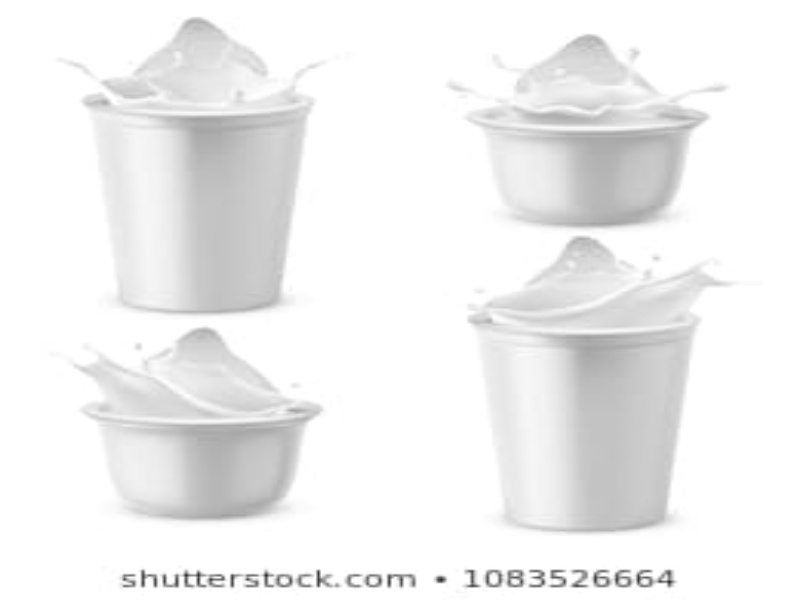plastic-cup: (79, 86, 309, 314), (470, 308, 699, 534)
yogurt-cup: (461, 97, 723, 226), (80, 395, 329, 524)
